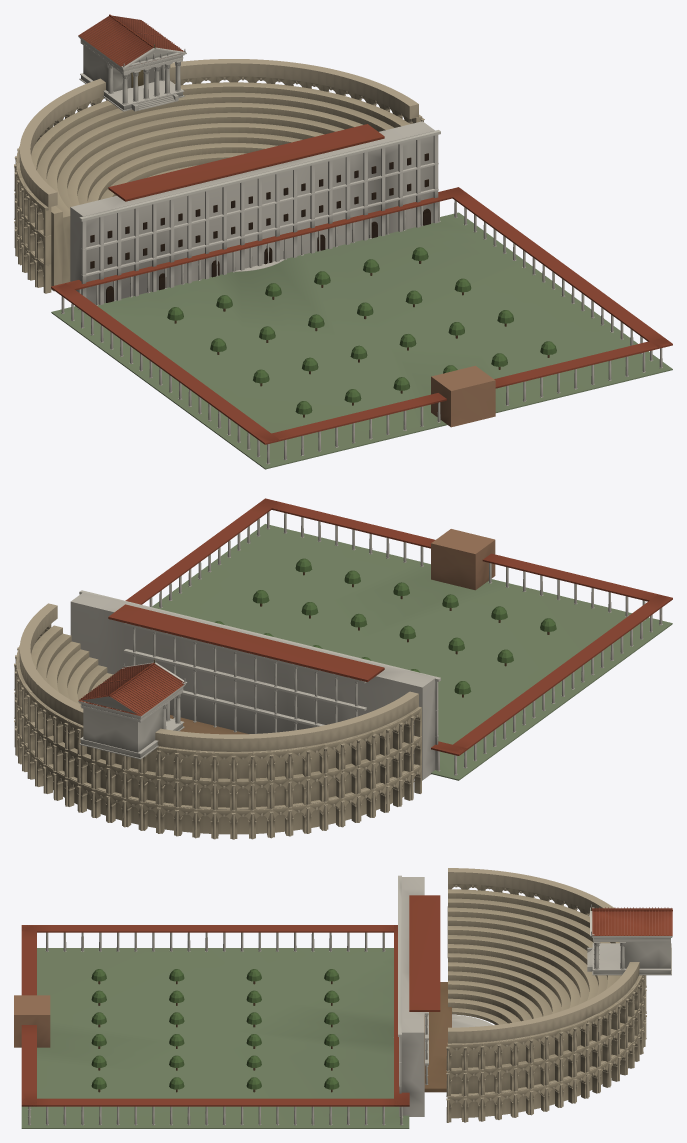
File: theatre-of-pompey.glb
3 views of the same model, one above another, from view 1: azimuth 30°, elevation 25°; view 2: azimuth 150°, elevation 25°; view 3: azimuth 270°, elevation 25° (orthographic). The views are drawn at different scales.
Parts seen in each view (by area): view 1: p0_cavea, p2_stage, p1_facade; view 2: p0_cavea, p2_stage, p1_facade; view 3: p0_cavea, p1_facade, p2_stage.
Boxes of the visible parts, x1=… form: p0_cavea: x1=31, y1=82, x2=672, y2=469; p2_stage: x1=51, y1=14, x2=672, y2=444; p1_facade: x1=14, y1=59, x2=662, y2=464; p0_cavea: x1=31, y1=524, x2=672, y2=834; p2_stage: x1=70, y1=498, x2=672, y2=780; p1_facade: x1=14, y1=511, x2=662, y2=839; p0_cavea: x1=21, y1=889, x2=621, y2=1128; p1_facade: x1=14, y1=868, x2=646, y2=1125; p2_stage: x1=21, y1=875, x2=672, y2=1116.
Size of the model in its own units: 165 by 56.37 by 255.
